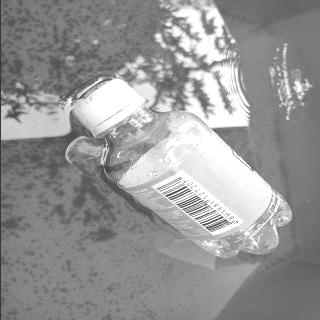bottle: (70, 77, 294, 260)
